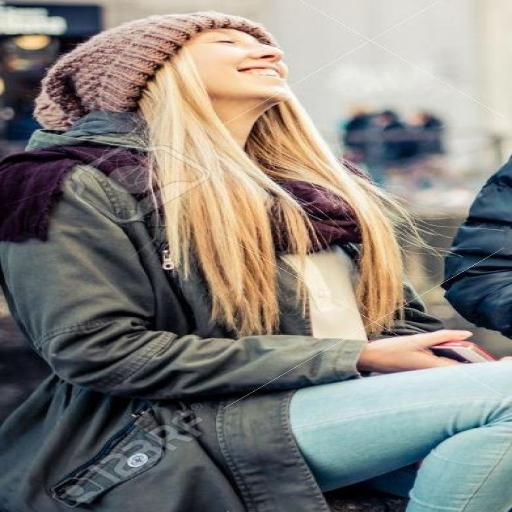person: (0, 12, 511, 511), (443, 159, 511, 337)
